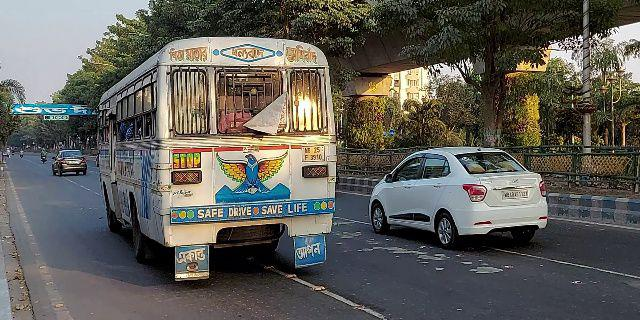Bus: (91, 33, 337, 285)
Car: (367, 142, 553, 253), (49, 147, 89, 178)
